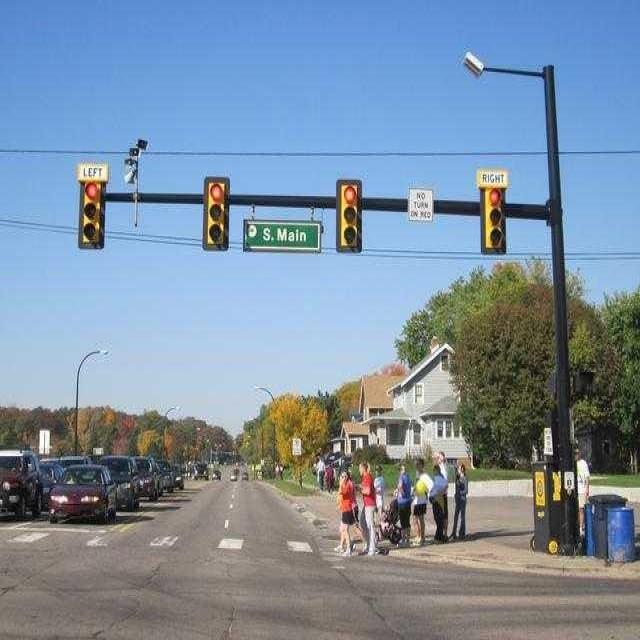Traffic Light -Red-: (76, 176, 106, 251), (204, 178, 231, 250), (483, 183, 507, 253), (338, 180, 361, 251)
